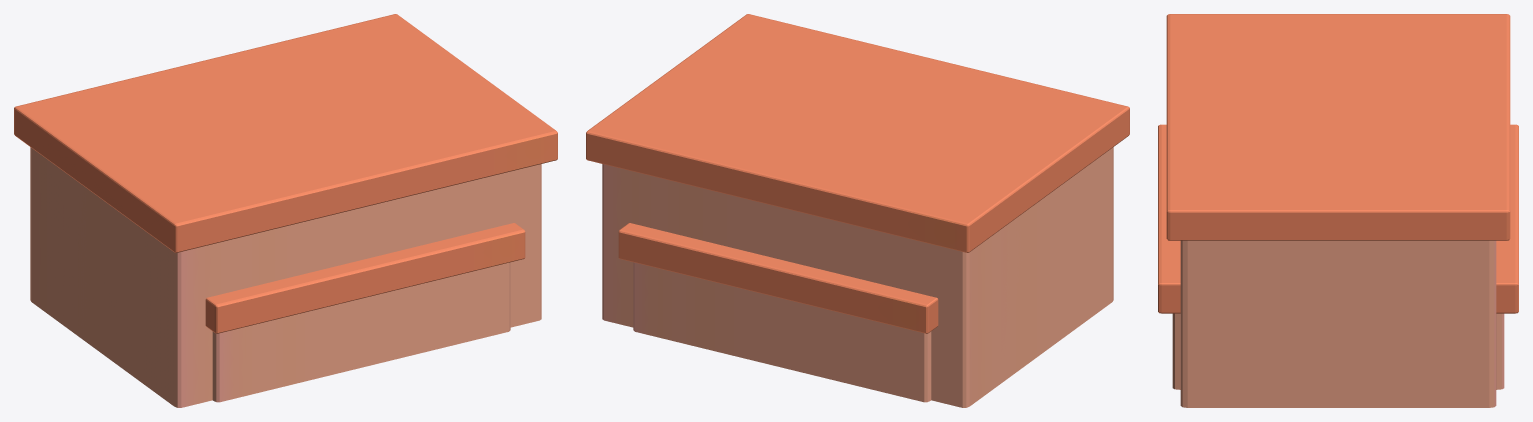
Rendered from Boxes.fbx.
3 renders of one model, left to right at view 1: azimuth 30°, elevation 25°; view 2: azimuth 150°, elevation 25°; view 3: azimuth 270°, elevation 25°, orthographic. The views are drawn at different scales.
Parts seen in each view (by area): view 1: Box1Cover.004, Box5, Box6, Box1Cover.005, Box4; view 2: Box1Cover.004, Box5, Box6, Box1Cover.005, Box4; view 3: Box1Cover.004, Box5, Box4, Box1Cover.005, Box6.
Boxes of the visible parts, box(x1,y1,x2,y2) form: Box1Cover.004: box(14, 14, 557, 252); Box5: box(30, 147, 541, 407); Box6: box(212, 262, 510, 402); Box1Cover.005: box(205, 223, 525, 333); Box4: box(62, 172, 142, 383); Box1Cover.004: box(586, 14, 1129, 252); Box5: box(602, 147, 1113, 407); Box6: box(633, 262, 931, 402); Box1Cover.005: box(618, 223, 938, 333); Box4: box(1001, 206, 1033, 348); Box1Cover.004: box(1166, 14, 1510, 240); Box5: box(1180, 240, 1496, 407); Box4: box(1253, 240, 1423, 407); Box1Cover.005: box(1158, 124, 1518, 313); Box6: box(1172, 313, 1504, 389).
Bounding box in the file's own units: 362 × 172 × 279.
